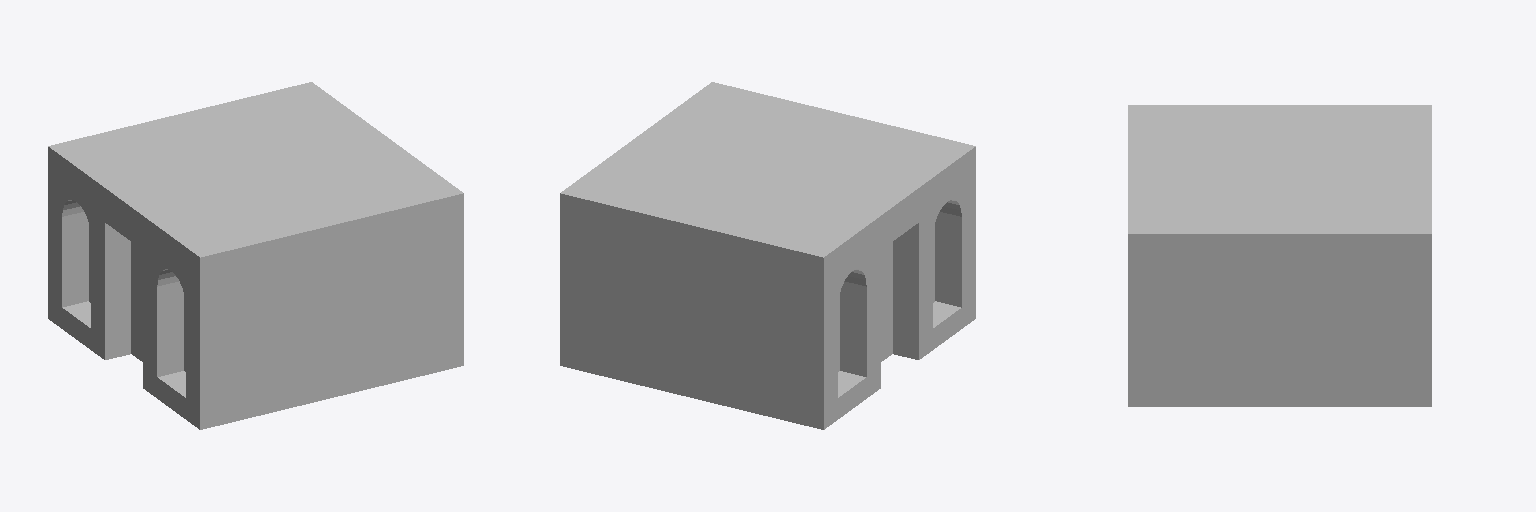
The picture shows the model from 3 angles: view 1: azimuth 30°, elevation 25°; view 2: azimuth 150°, elevation 25°; view 3: azimuth 270°, elevation 25°; orthographic projection.
Parts seen in each view (by area): view 1: G-__556032_G-__556032_Brick, G-__556032_G-__556032_Glass; view 2: G-__556032_G-__556032_Brick, G-__556032_G-__556032_Glass; view 3: G-__556032_G-__556032_Brick.
Boxes of the visible parts, box(x1,y1,x2,y2) form: G-__556032_G-__556032_Brick: box(48, 82, 463, 429); G-__556032_G-__556032_Glass: box(89, 227, 185, 371); G-__556032_G-__556032_Brick: box(560, 82, 975, 429); G-__556032_G-__556032_Glass: box(838, 227, 934, 371); G-__556032_G-__556032_Brick: box(1128, 105, 1431, 406).
Bounding box in the file's own units: 1 × 0.625 × 1.